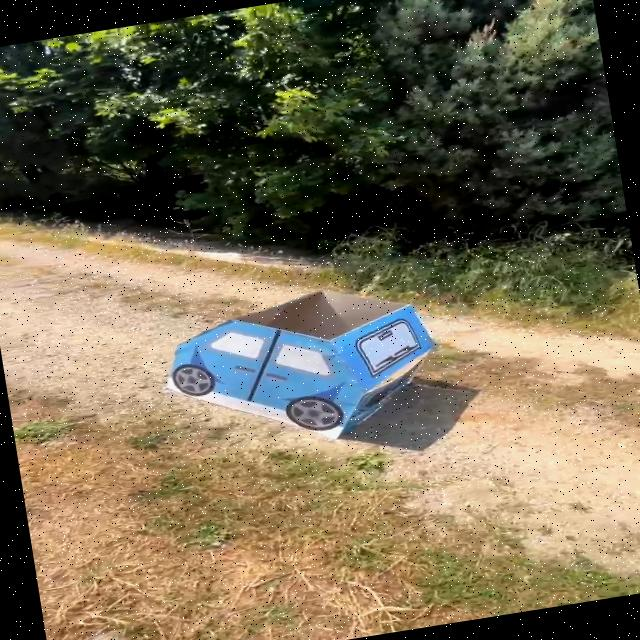blue_car: (138, 258, 475, 485)
